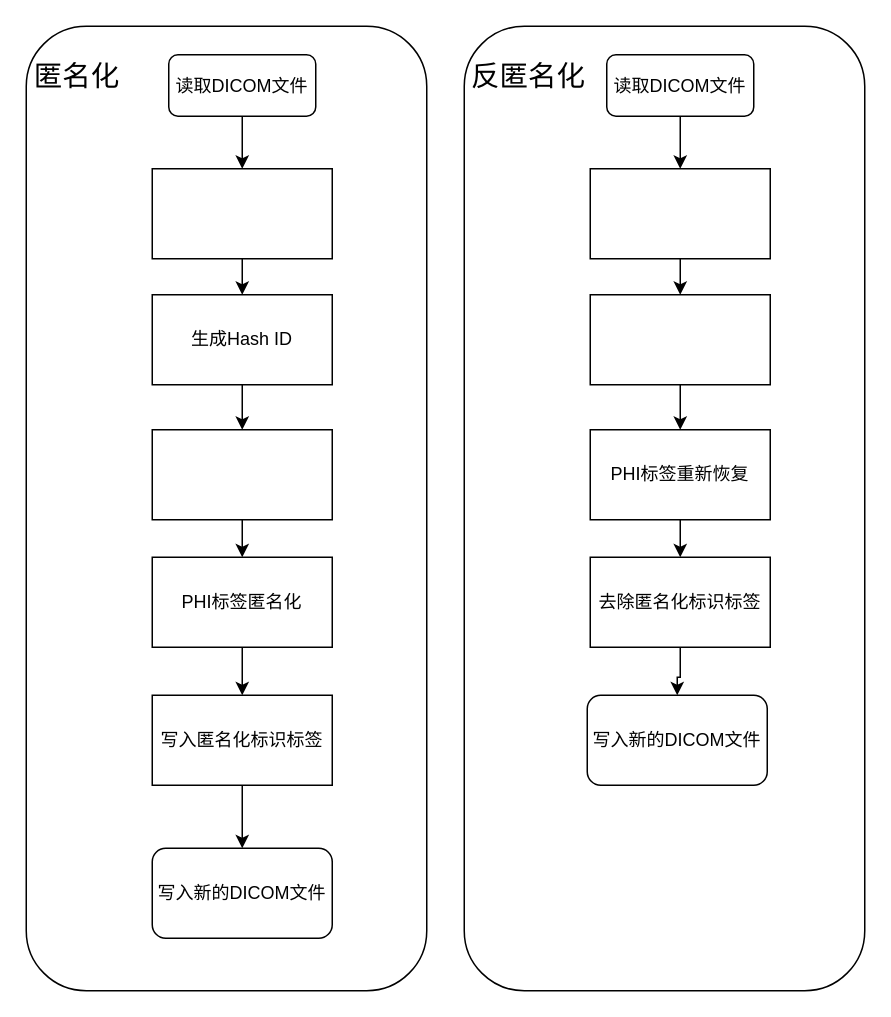
Some shapes in this 891 by 1017 pixel diagram are drawn without their labels. Here are the shapes that lost their labels. From the top down, the box of each, then its label:
(151, 167, 332, 259): 提取PHI标签中的信息
(589, 167, 770, 259): 提取匿名化标识标签中的Hash ID
(589, 293, 770, 385): 查找对应的json文件
(151, 428, 332, 520): PHI信息、Hash ID写入json文件
